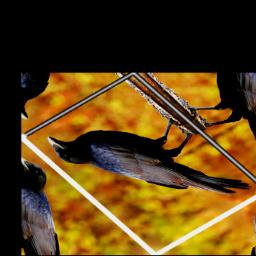Crow: (38, 85, 255, 245)
